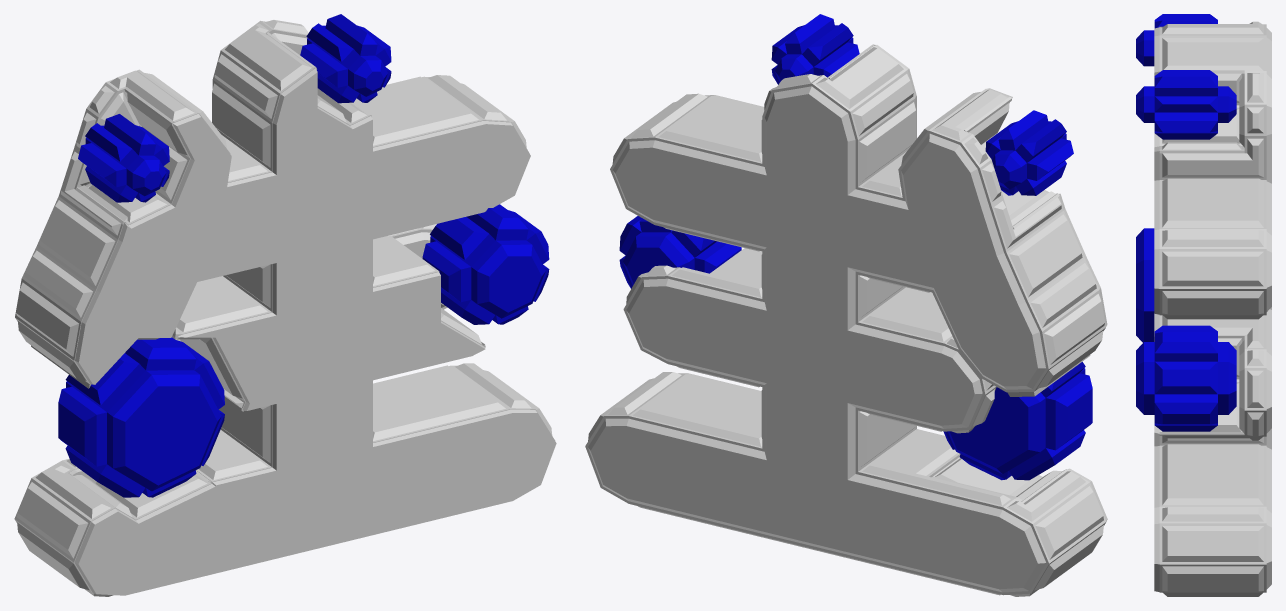
File: Ch_China_生_01.fbx
The picture shows the model from 3 angles, left to right: view 1: azimuth 30°, elevation 25°; view 2: azimuth 150°, elevation 25°; view 3: azimuth 270°, elevation 25°; orthographic projection. The views are drawn at different scales.
Visible parts, largest first — view 1: sphere1; view 2: sphere1; view 3: sphere1.
Part boxes in pixels (left/top/right/bottom): sphere1: left=14, top=14, right=556, bottom=596; sphere1: left=585, top=14, right=1107, bottom=596; sphere1: left=1136, top=14, right=1271, bottom=596.
Size of the model in its own units: 0.9434 by 0.9377 by 0.2541.
